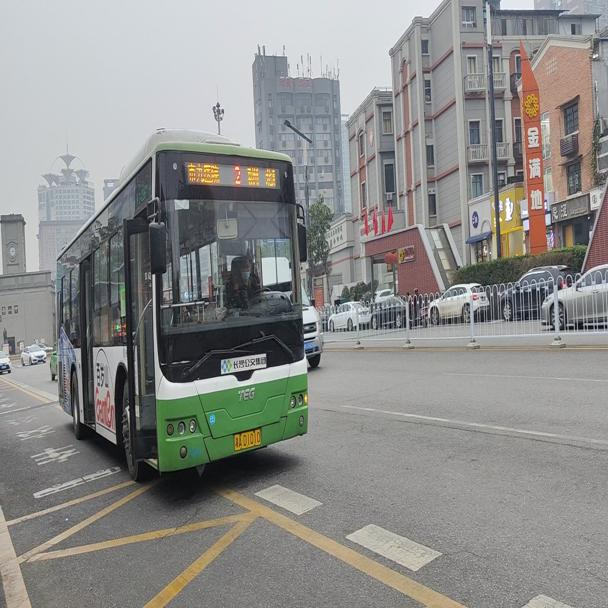bus: (50, 122, 310, 486)
screen: (225, 158, 246, 184)
